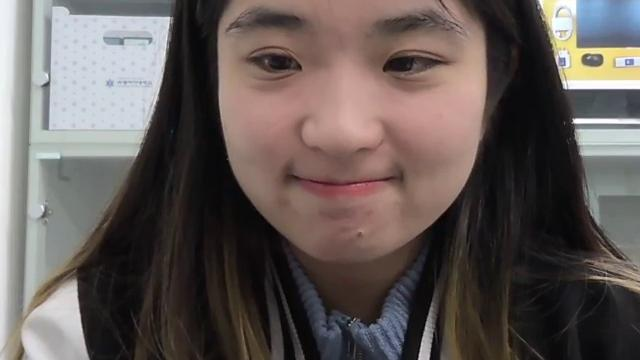eye: (270, 55, 286, 70), (394, 58, 410, 73)
iris: (254, 53, 300, 73), (386, 57, 437, 73)
